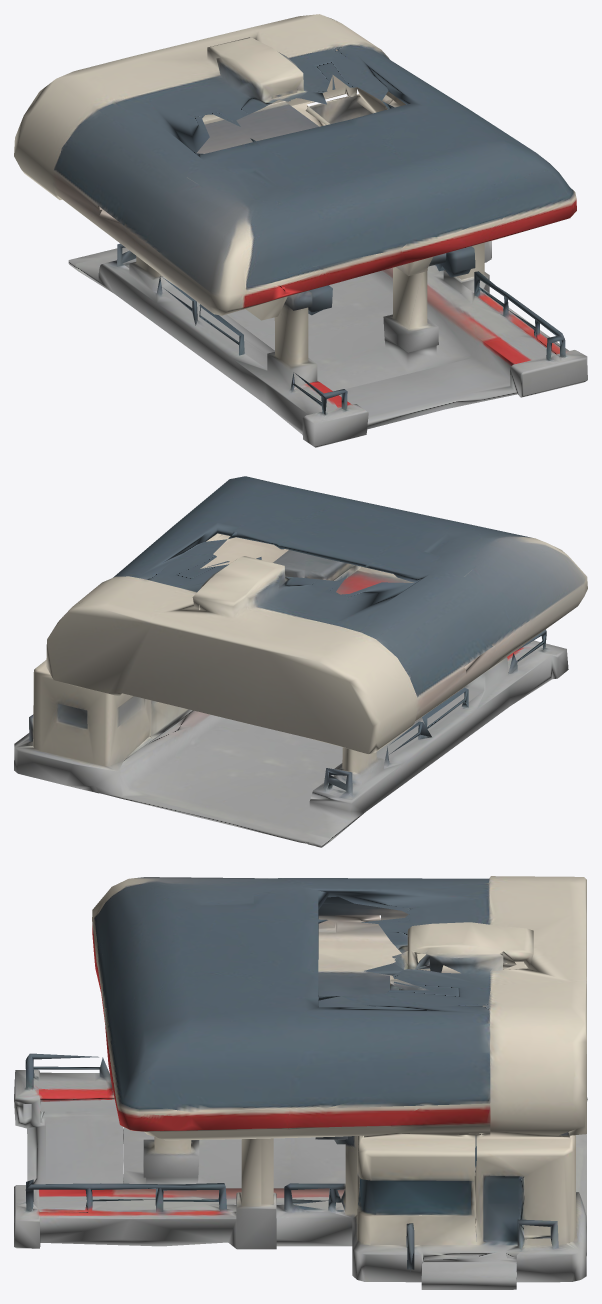
Rendered from station-mobile-v01.glb.
3 renders of one model, top to bottom at view 1: azimuth 30°, elevation 25°; view 2: azimuth 150°, elevation 25°; view 3: azimuth 270°, elevation 25°, orthographic. The views are drawn at different scales.
Visible parts, largest first — view 1: tripo_node_f787430b-575e-4ca6-9130-0a96d549cce6; view 2: tripo_node_f787430b-575e-4ca6-9130-0a96d549cce6; view 3: tripo_node_f787430b-575e-4ca6-9130-0a96d549cce6.
Boxes of the visible parts, <box> form: tripo_node_f787430b-575e-4ca6-9130-0a96d549cce6: <box>14,14,587,447</box>; tripo_node_f787430b-575e-4ca6-9130-0a96d549cce6: <box>14,476,587,847</box>; tripo_node_f787430b-575e-4ca6-9130-0a96d549cce6: <box>14,876,587,1289</box>.
Size of the model in its own units: 0.9326 by 0.4684 by 1.
Materials: 1 (1 with a texture image).
